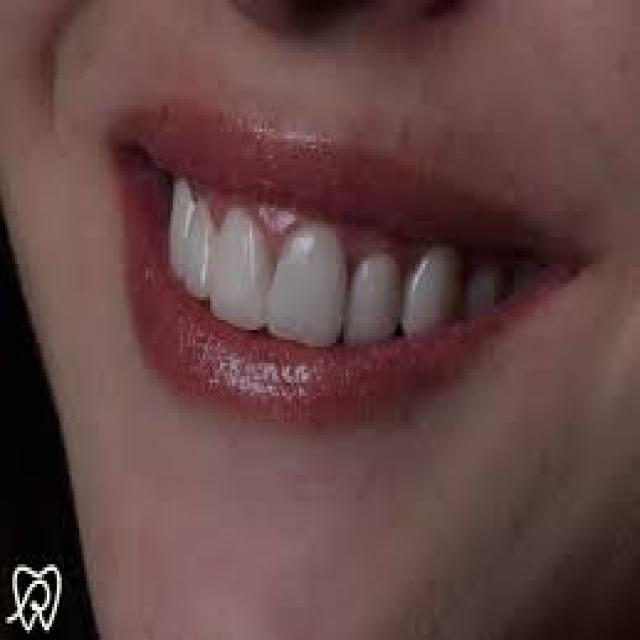tooth: (282, 231, 331, 340), (218, 218, 260, 313), (351, 258, 395, 336), (410, 251, 450, 323), (188, 205, 210, 300), (170, 182, 188, 280), (465, 264, 494, 310), (512, 254, 532, 277)
